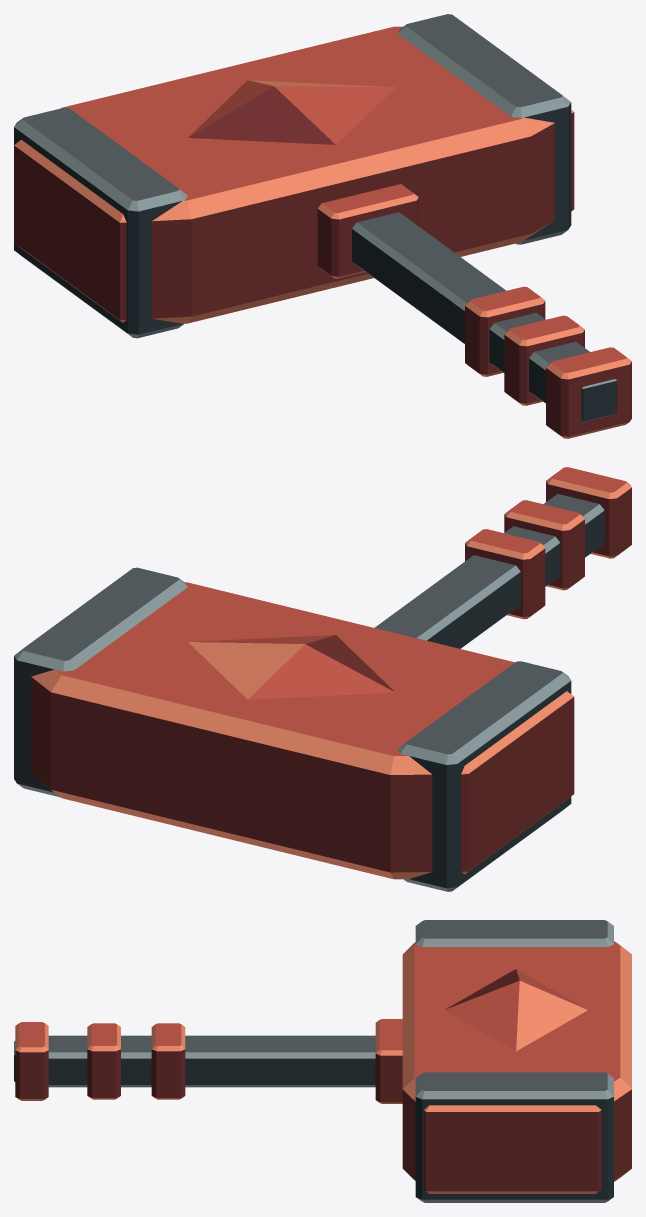
The model's file is reidite_hammer.fbx.
3 views of the same model, one above another, from view 1: azimuth 30°, elevation 25°; view 2: azimuth 150°, elevation 25°; view 3: azimuth 270°, elevation 25° (orthographic). The views are drawn at different scales.
Visible parts, largest first — view 1: reidite_hammer; view 2: reidite_hammer; view 3: reidite_hammer.
Boxes of the visible parts, left/top/right/bottom form: reidite_hammer: left=14, top=14, right=631, bottom=438; reidite_hammer: left=14, top=467, right=631, bottom=891; reidite_hammer: left=14, top=920, right=631, bottom=1202.
Bounding box in the file's own units: 1.66 × 0.64 × 2.4.
Materials: 1 (1 with a texture image).
